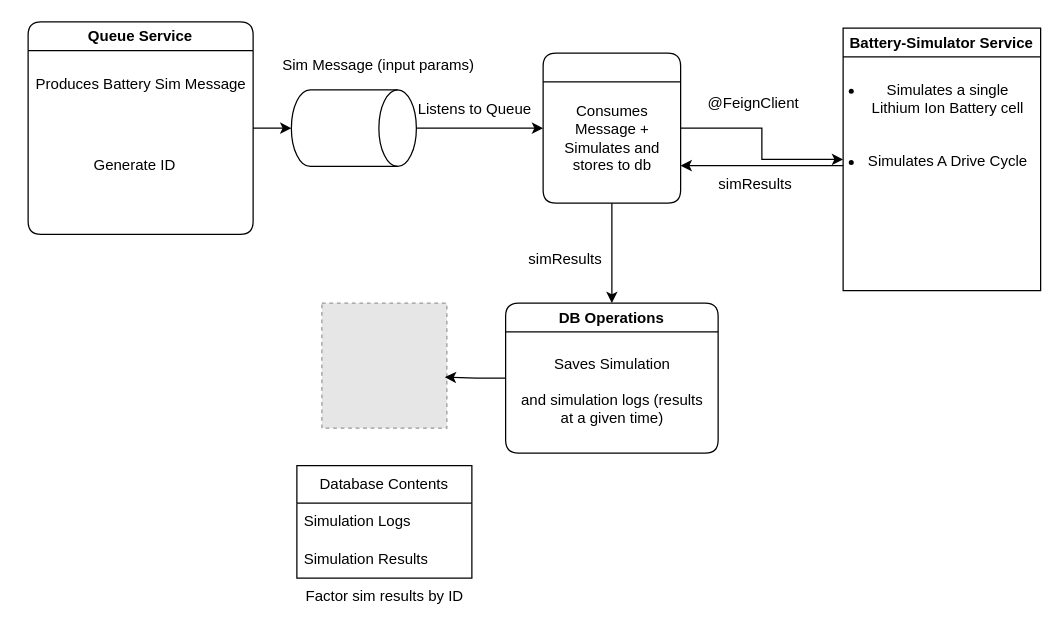
Image size: 1063x638. Some labels were removed from this diagram. Grey dashed boxes stand in for pictures. The box of each missing label's shape, as (x1, y1, x2, y2) in pixels:
Job Manager: (542, 52, 681, 203)
Message Queues (JSON): (290, 89, 416, 166)
